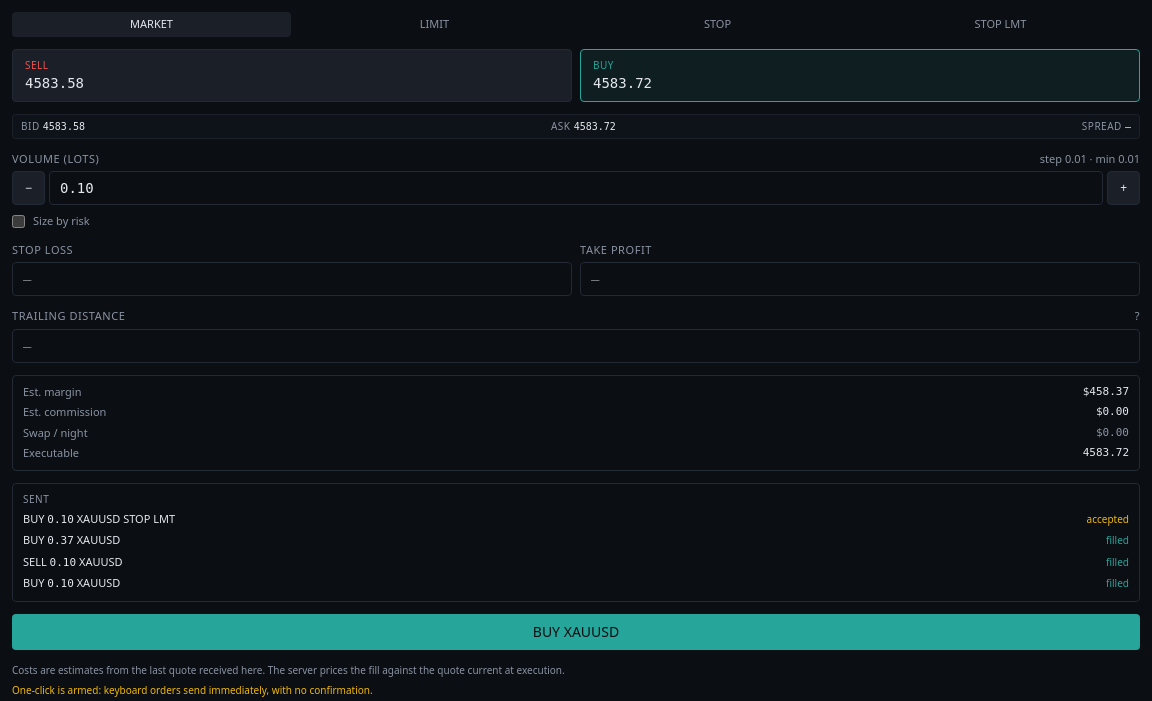
sizing an order by risk › sets the volume so the stop costs no more than the amount, rounded down
Click the checkbox labelled "Size by risk" at point(18, 221), box [12,215,25,228]
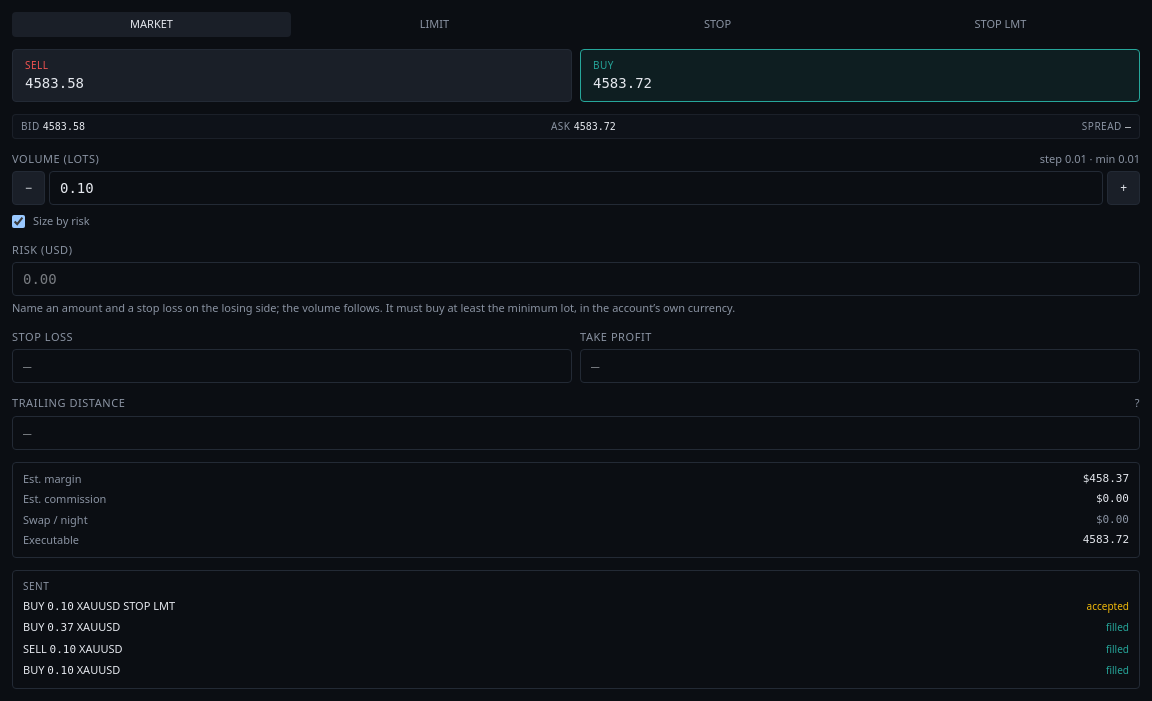
Type "4578.72" into the field with placeholder "—" at point(292, 366), box [12,349,572,383]
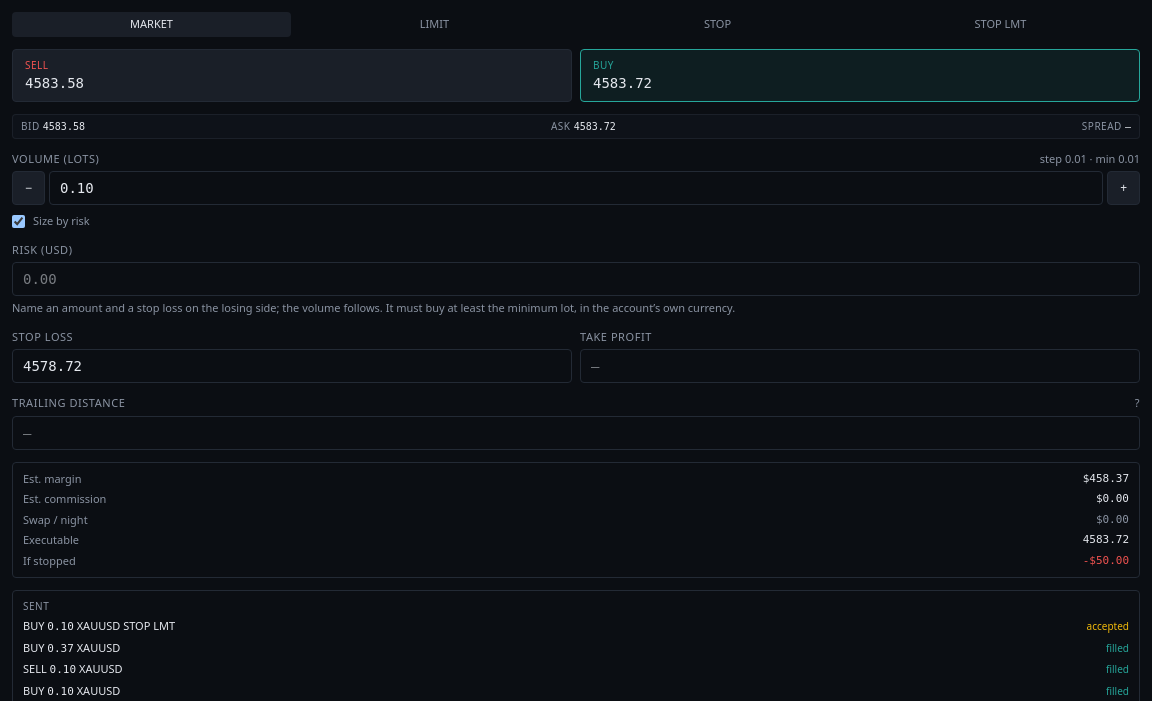
Type "42" into the field labelled "Risk (USD)" at point(576, 279), box [12,262,1140,296]
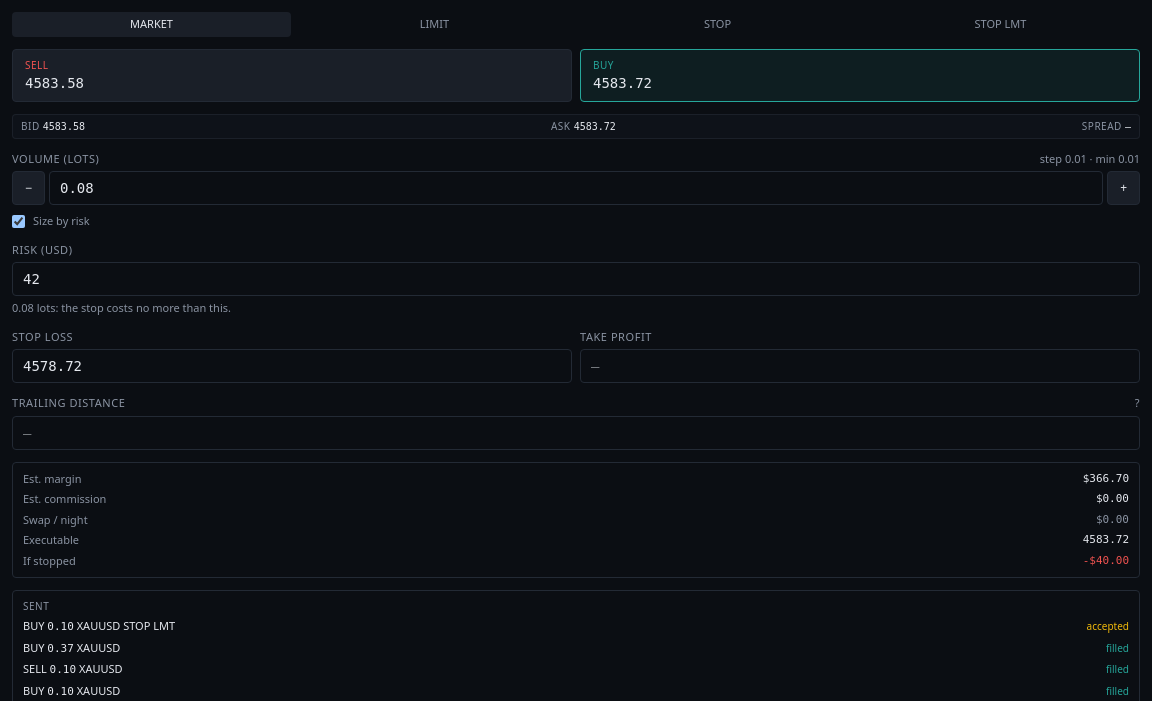
Check: the field named "Volume (lots)" holds "0.08", box [49,171,1103,205]
Check: the text with test id "risk-sizing" shows "0.08 lots", box [12,300,231,315]
